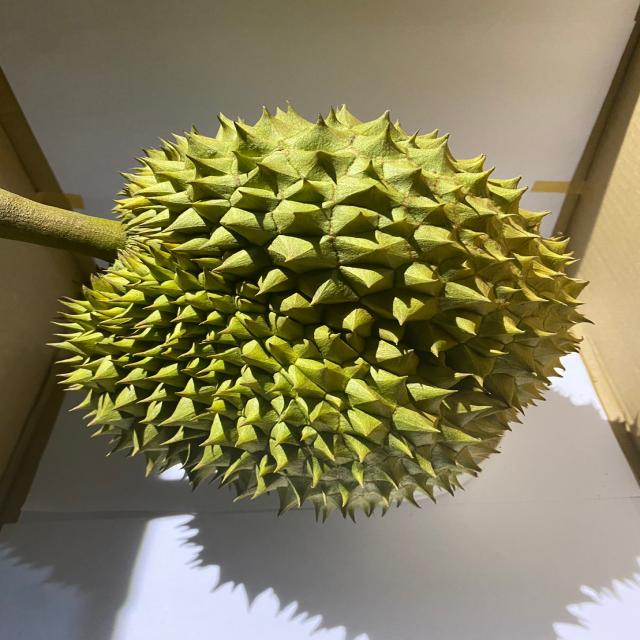immature: (53, 103, 592, 527)
